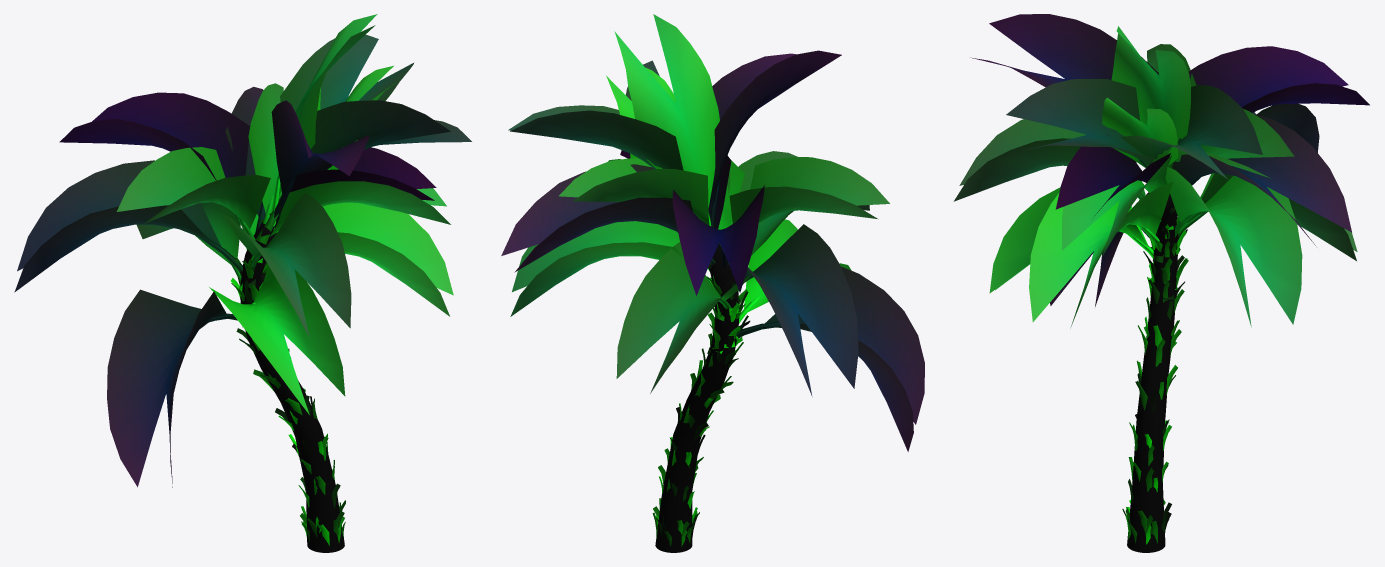
The model's file is Palme.fbx.
3 views of the same model, side by side, from view 1: azimuth 30°, elevation 25°; view 2: azimuth 150°, elevation 25°; view 3: azimuth 270°, elevation 25° (orthographic). The views are drawn at different scales.
Parts seen in each view (by area): view 1: tree; view 2: tree; view 3: tree.
Part boxes in pixels (x1,y1,x2,y2): tree: (14,14,471,552); tree: (501,14,924,552); tree: (953,14,1369,552).
Size of the model in its own units: 20426 by 27069 by 19261.
